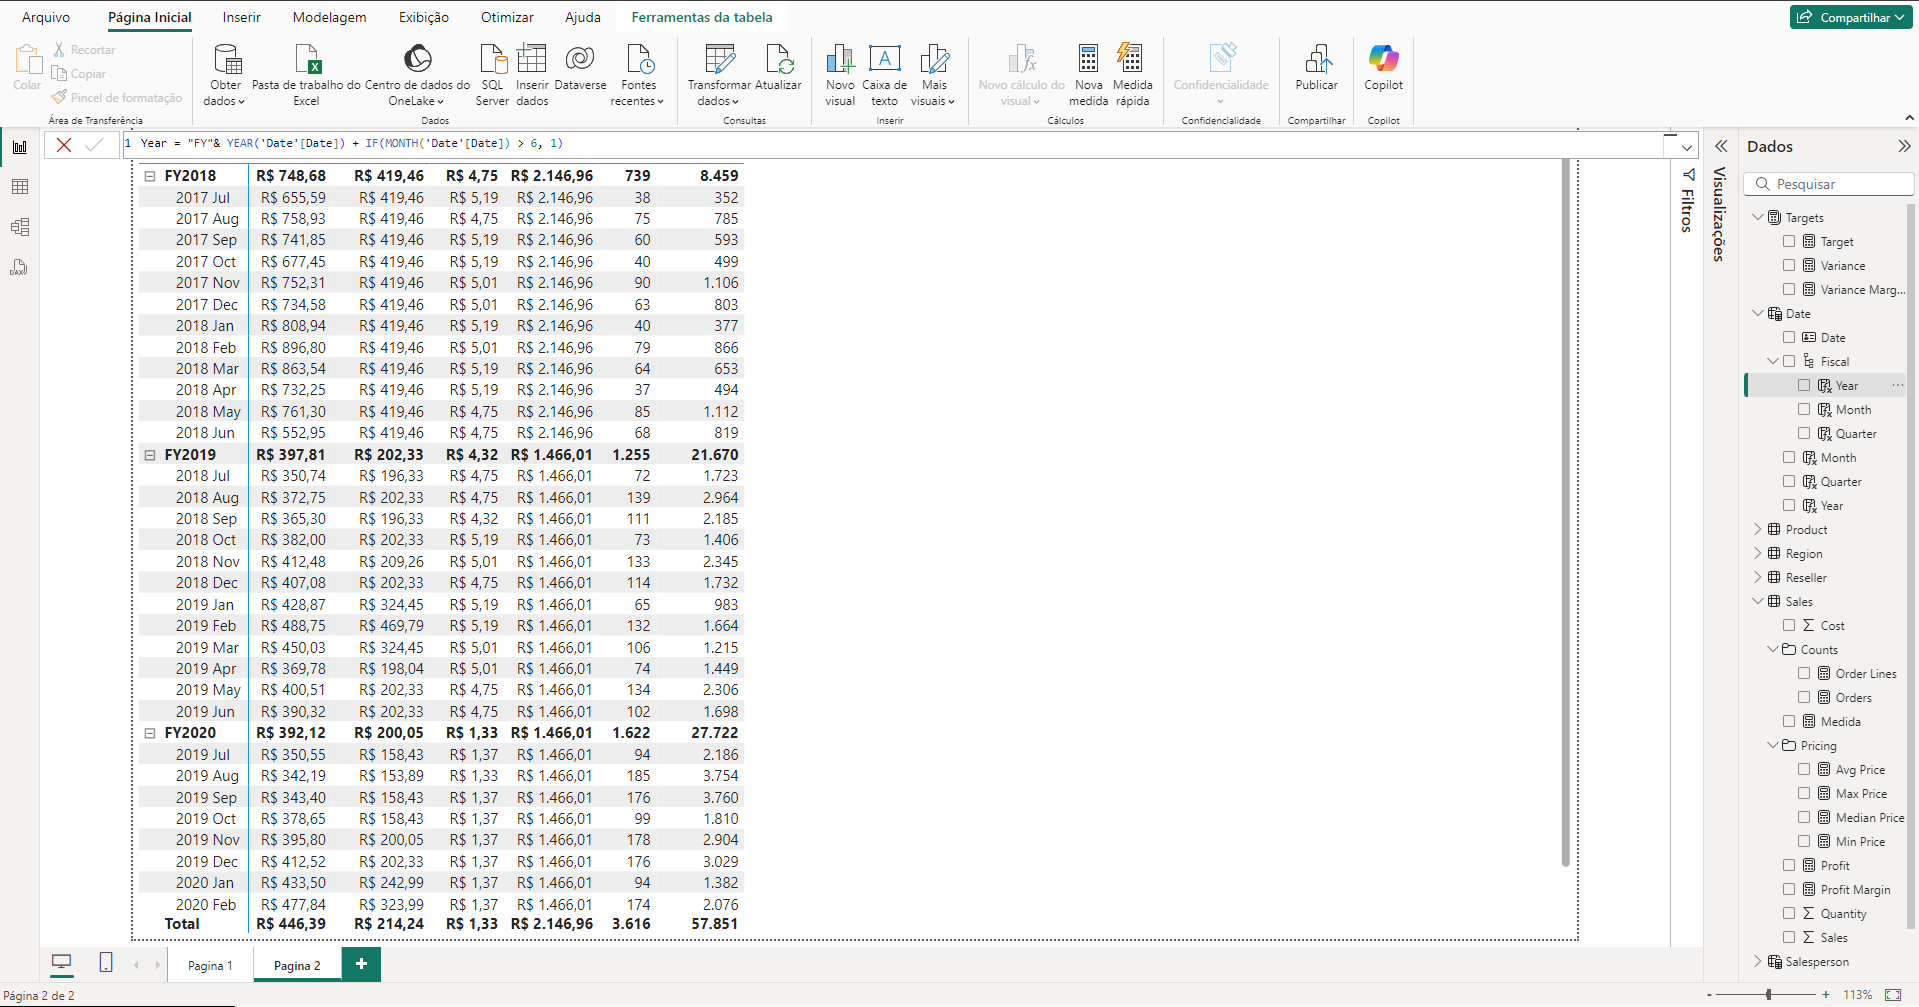

The page's visual inventory and layout, read from the dashboard file:
{"tool":"powerbi","page":{"name":"Pagina 2","canvas":[1280,720],"ordinal":1},"visuals":[{"type":"pivotTable","fields":{"Rows":["Date.Year","Date.Month"],"Values":["Sales.Avg Price","Sales.Median Price","Sales.Min Price","Sales.Max Price","Sales.Orders","Sales.Order Lines"]},"box":[0,0,1280.4,720],"z":0}]}

Visuals, with their boxes on the page's 1280x720 design canvas (x1, y1, x2, y2). These are canvas units, not pixel positions in the 1919x1007 screenshot, which may show the page scaled, cropped or inside an application window:
pivotTable - Date.Year x Date.Month: crop(0, 0, 1280, 720)
